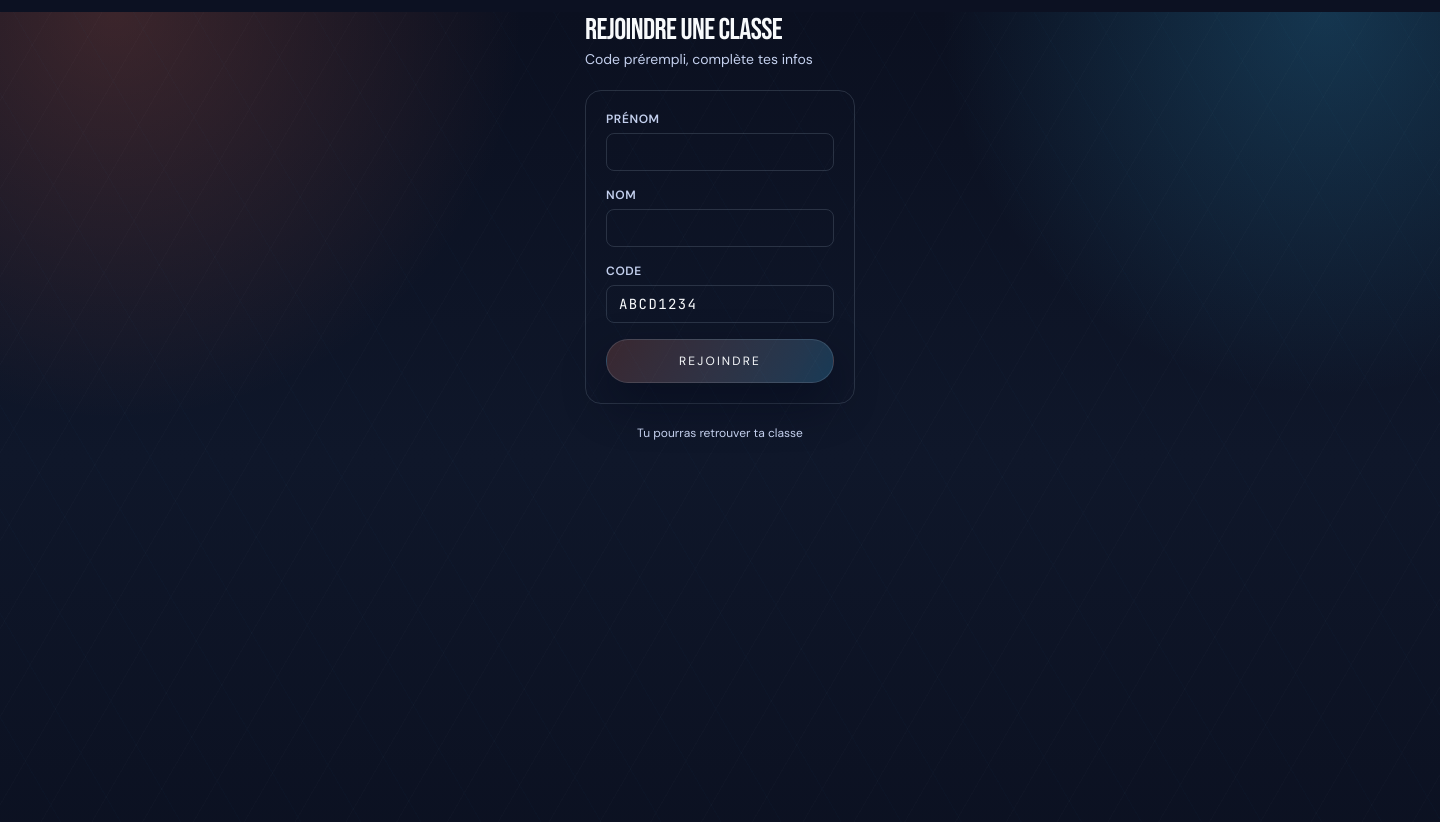
Scenario: RejoindreClient — soumission › POST 409 already_enrolled → message d'erreur i18n
The width and height of the screenshot is (1440, 822).
In the field labelled "Prénom": {"x": 720, "y": 152} [606,133,834,171], type "Léa"
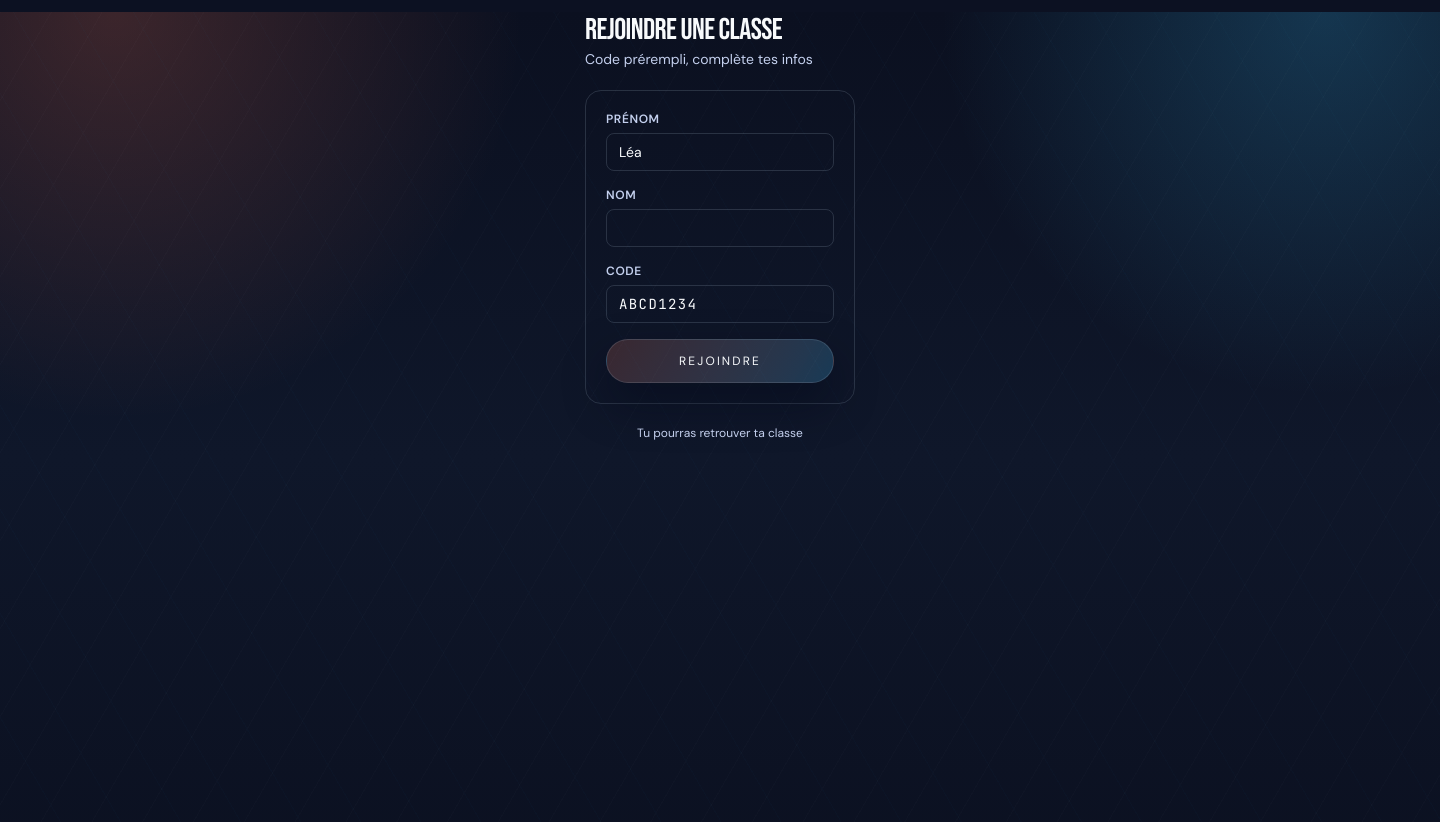
In the field labelled "Nom": {"x": 720, "y": 228} [606,209,834,247], type "Martin"
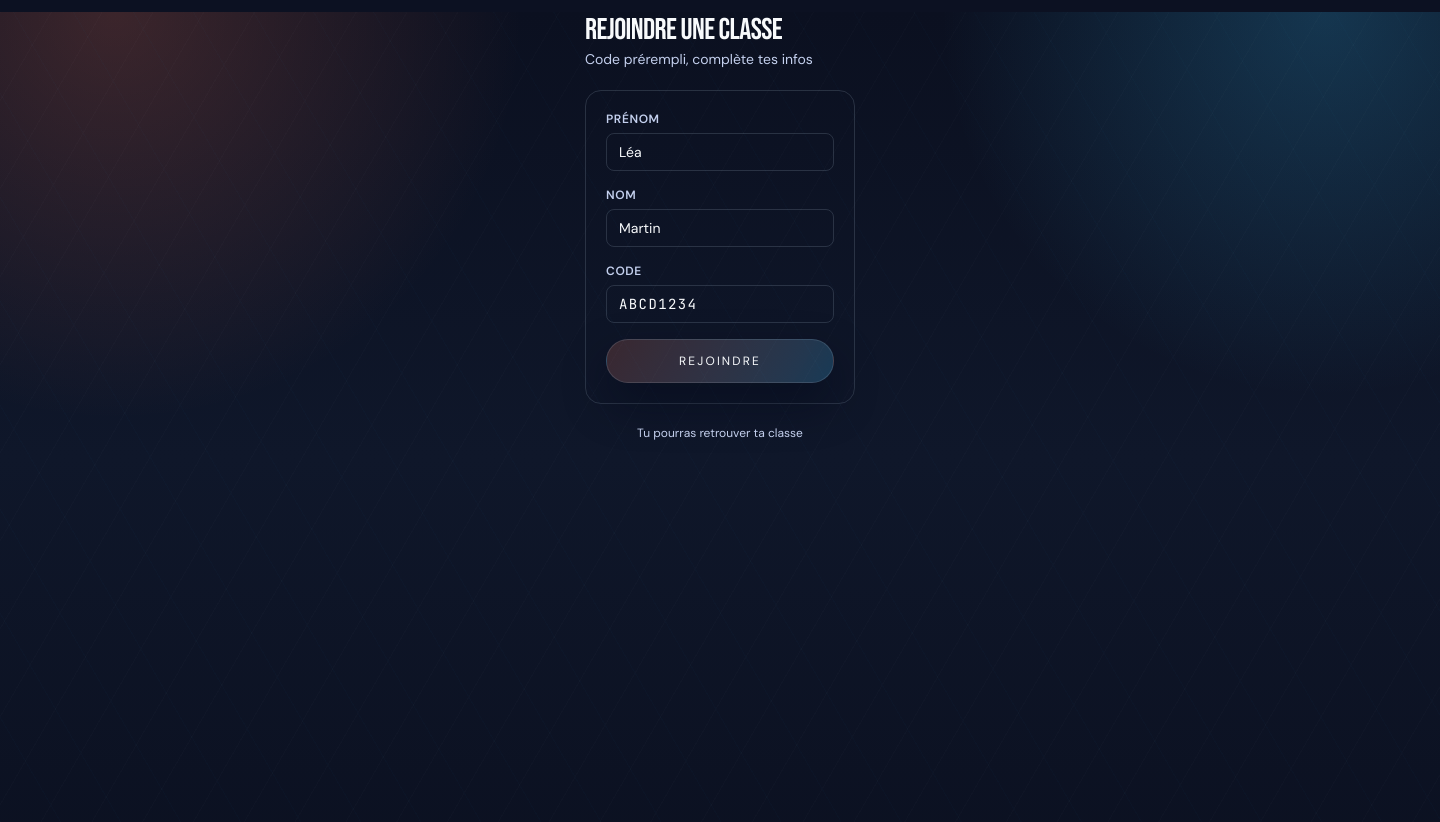
Click the button "Rejoindre": {"x": 720, "y": 361} [606,339,834,383]
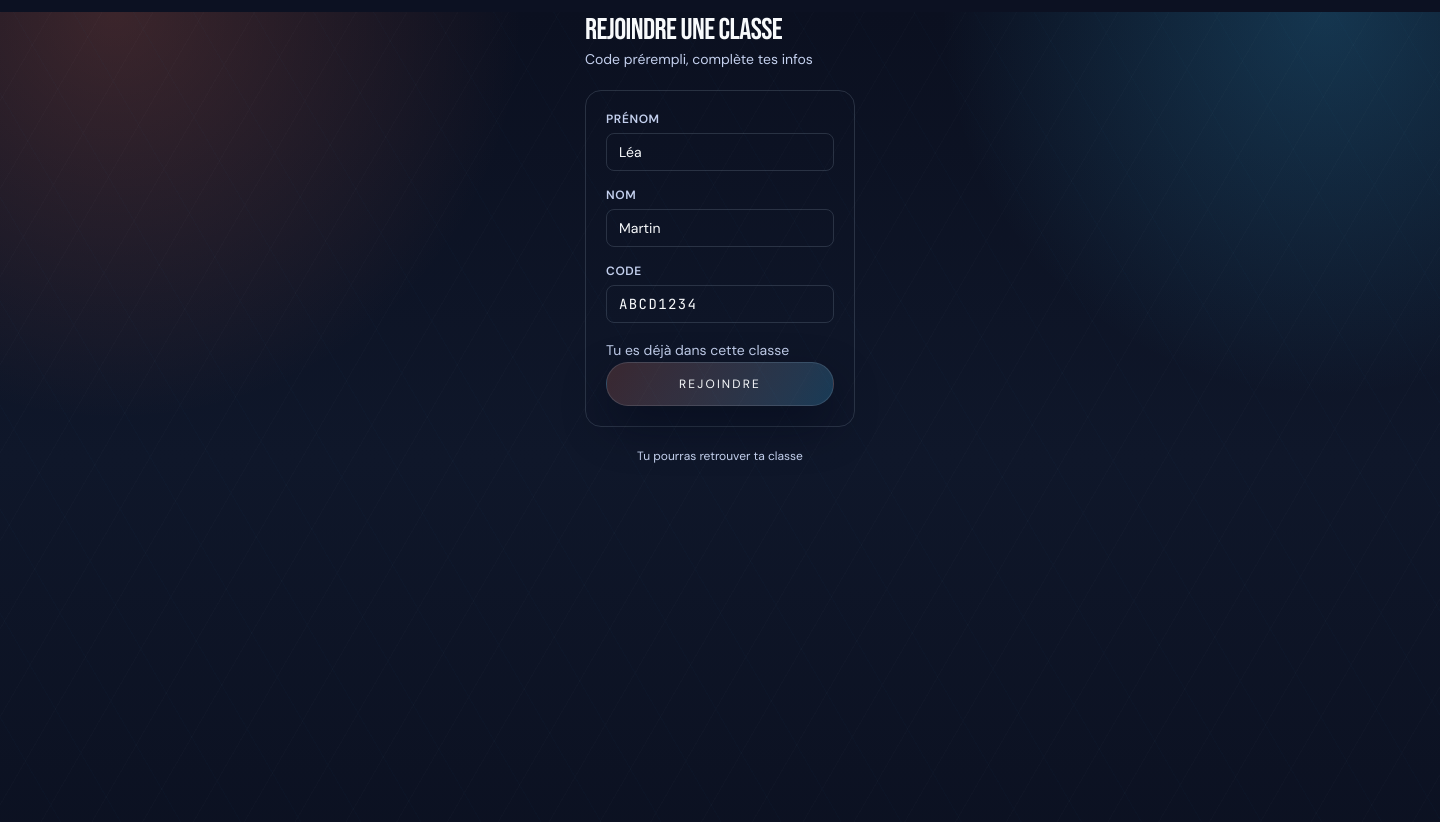
Check: the message with test id "join-form-error" reads "Tu es déjà dans cette classe", box [606,341,789,359]
